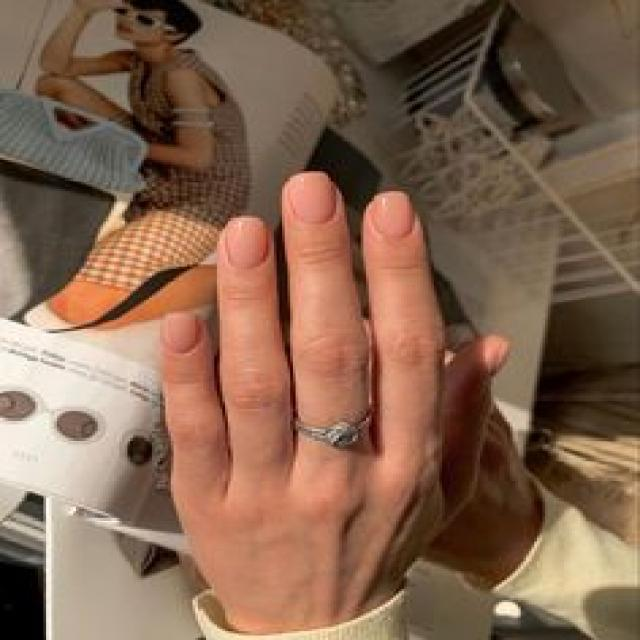Fingernail: (289, 174, 336, 224), (226, 218, 267, 270), (370, 196, 415, 238), (165, 313, 197, 354)
